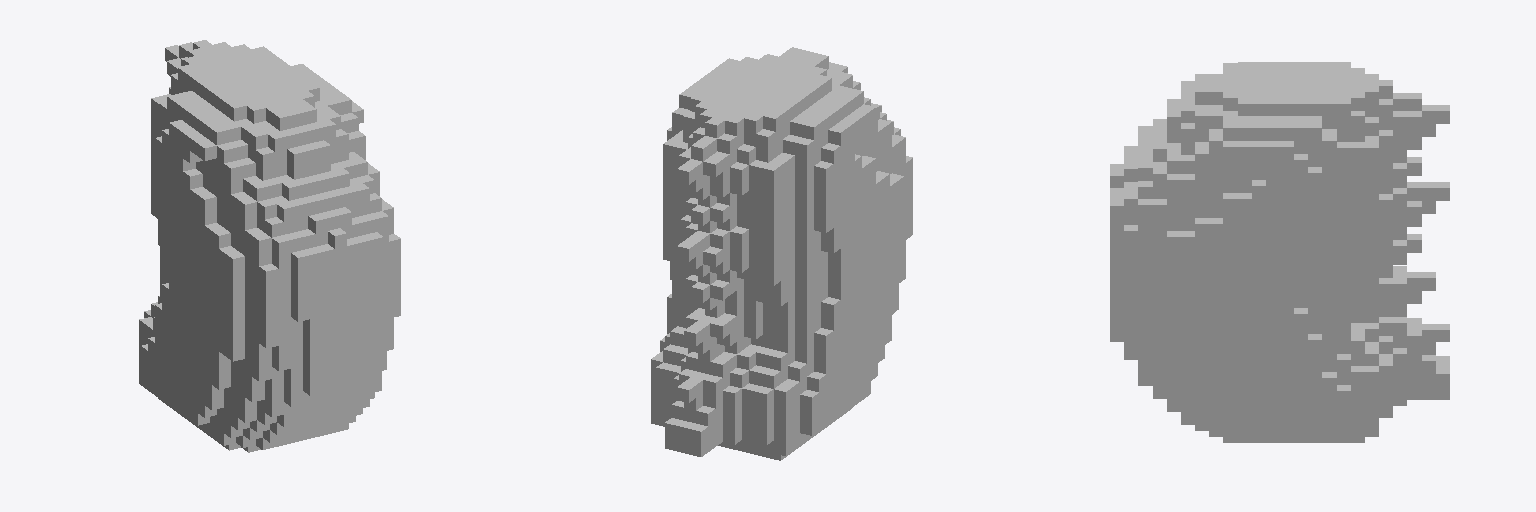
File: LizardMan BOSS body.obj
3 views of the same model, side by side, from view 1: azimuth 30°, elevation 25°; view 2: azimuth 150°, elevation 25°; view 3: azimuth 270°, elevation 25° (orthographic).
Bounding box in the file's own units: 13 × 27 × 24.